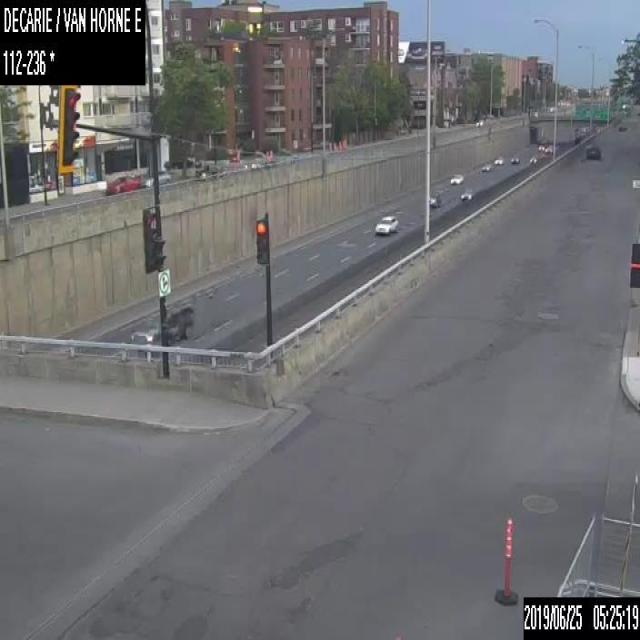construction: (494, 516, 518, 606), (264, 148, 268, 160), (268, 149, 272, 161), (341, 138, 345, 148), (328, 141, 331, 149), (332, 140, 335, 148), (338, 140, 340, 149)
vehicle: (130, 304, 193, 344), (141, 168, 172, 186), (106, 175, 138, 192), (375, 213, 397, 232), (428, 189, 442, 207), (586, 145, 600, 159), (460, 185, 473, 200), (449, 172, 463, 184), (536, 139, 546, 152), (527, 153, 538, 163), (511, 153, 520, 163), (492, 156, 502, 164), (544, 144, 552, 154), (481, 162, 490, 170), (476, 118, 484, 126)
